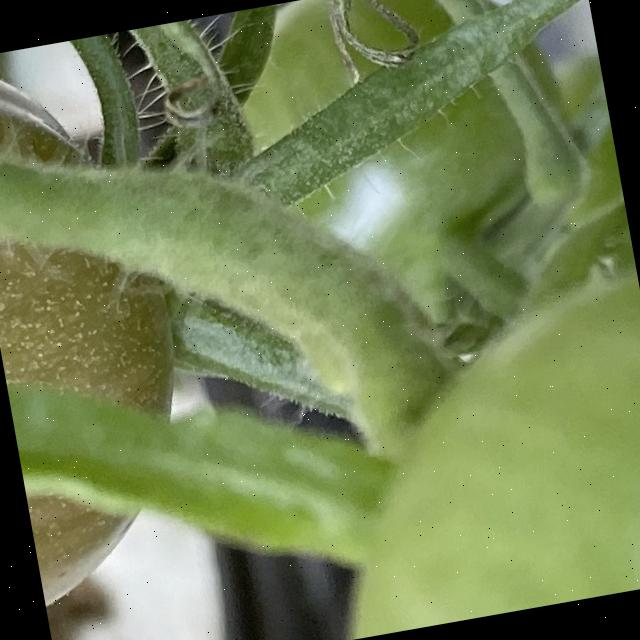tomato: (267, 164, 640, 640)
